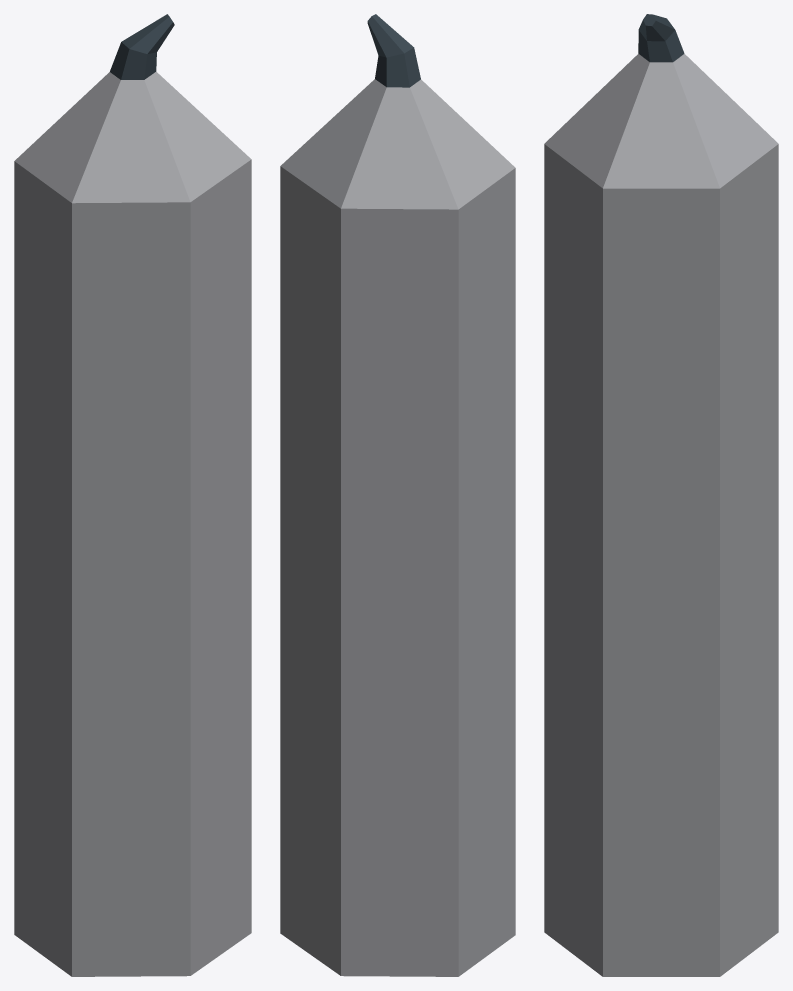
File: Candle.fbx
The picture shows the model from 3 angles, left to right: view 1: azimuth 30°, elevation 25°; view 2: azimuth 150°, elevation 25°; view 3: azimuth 270°, elevation 25°; orthographic projection. The views are drawn at different scales.
Parts seen in each view (by area): view 1: Candle; view 2: Candle; view 3: Candle.
Part boxes in pixels (x1,y1,x2,y2): Candle: (14,14,251,976); Candle: (280,14,515,976); Candle: (544,14,778,976).
Size of the model in its own units: 2.46 by 11.99 by 2.73.
